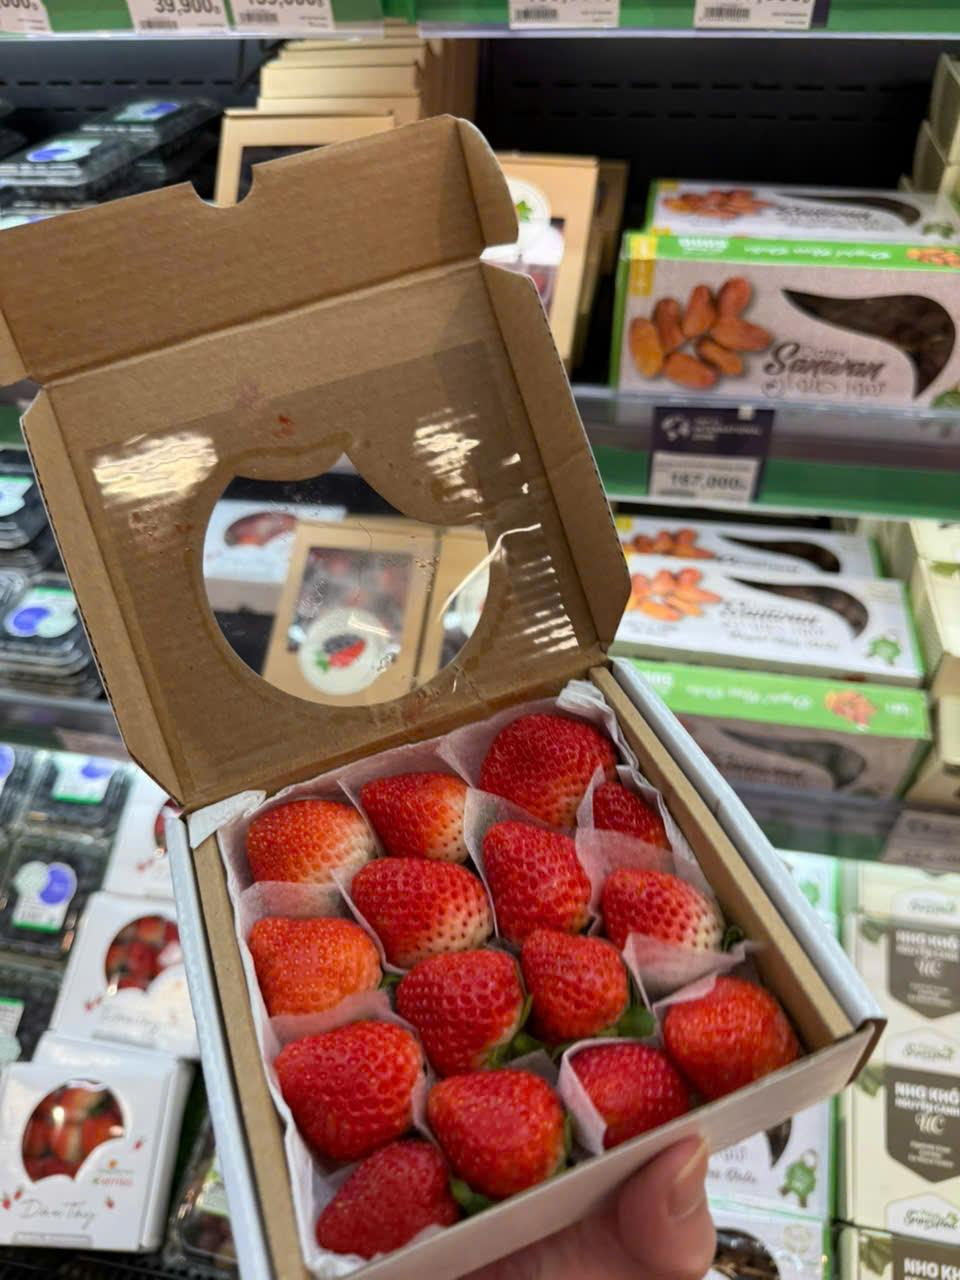strawberry: (302, 1131, 486, 1256), (262, 1016, 436, 1136), (420, 1073, 574, 1208), (235, 906, 396, 1022), (400, 943, 534, 1068), (665, 973, 798, 1096), (480, 806, 600, 942), (348, 856, 500, 952), (515, 923, 634, 1036), (603, 855, 724, 962), (463, 708, 598, 800), (562, 1043, 680, 1134), (232, 813, 366, 888), (360, 765, 478, 832)
